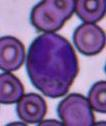E: (26, 32, 79, 96)
